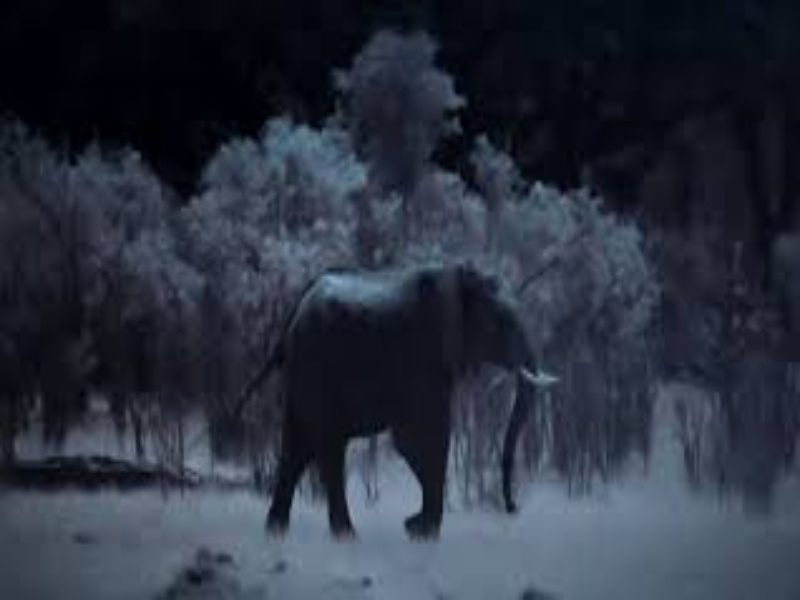elephant: (245, 202, 597, 569)
